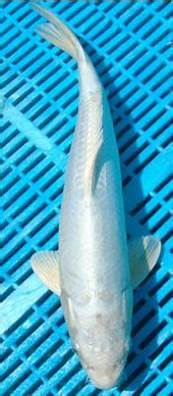white: (30, 1, 163, 389)
